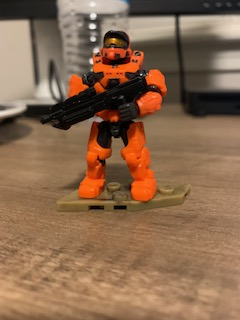rifle: (41, 74, 150, 126)
spartan: (64, 28, 169, 206)
